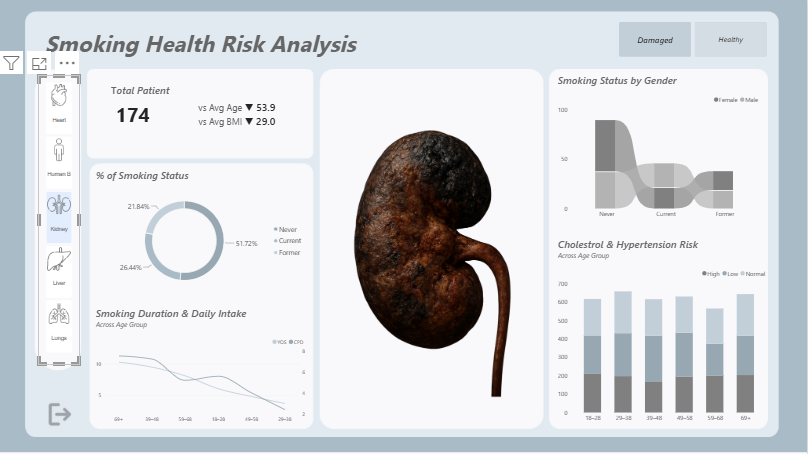

This screenshot's page, from the dashboard's own definition file:
{"tool":"powerbi","page":{"name":"Smoking Health Risk Analysis","canvas":[1920,1080],"ordinal":0},"visuals":[{"type":"cardVisual","fields":{"Data":["CountNonNull(health_dataset.Patient_ID)"]},"box":[228.6,178.6,497.6,185.7],"z":0},{"type":"textbox","box":[264.3,178.6,283.3,114.3],"z":1000},{"type":"advancedSlicerVisual","fields":{"Values":["condition.Organ_Condition"]},"box":[1473.8,52.4,352.4,83.3],"z":2000},{"type":"ChicletSlicer1448559807354","fields":{"Category":["Organs.Organ"],"Image":["Organs.Icon_URL"]},"box":[90.5,178.6,100,690.5],"z":3000},{"type":"image","box":[764.3,178.6,528.6,831],"z":4000},{"type":"donutChart","title":"% of Smoking Status","fields":{"Category":["health_dataset.Smoking_Status"],"Y":["CountNonNull(health_dataset.Smoking_Status)"]},"box":[211.9,385.7,531,328.6],"z":5000},{"type":"lineChart","title":"Smoking Duration & Daily Intake","fields":{"Category":["health_dataset.Age Group"],"Y":["Avg(health_dataset.Years_of_Smoking)"],"Y2":["Avg(health_dataset.Cigarettes_Per_Day)"]},"box":[211.9,714.3,531,311.9],"z":6000},{"type":"ribbonChart","title":"Smoking Status by Gender","fields":{"Category":["health_dataset.Smoking_Status"],"Series":["health_dataset.Gender"],"Y":["CountNonNull(health_dataset.Patient_ID)"]},"box":[1311.9,159.5,514.3,381],"z":6001},{"type":"columnChart","title":"Cholestrol & Hypertension Risk","fields":{"Category":["health_dataset.Age Group"],"Series":["health_dataset.BP_Risk"],"Y":["Avg(health_dataset.Cholesterol_Level)"]},"box":[1311.9,550,531,476.2],"z":6002},{"type":"textbox","box":[107.1,66.7,819,92.9],"z":6003}]}

Visuals, with their boxes on the page's 1920x1080 design canvas (x1, y1, x2, y2). These are canvas units, not pixel positions in the 808x454 screenshot, which may show the page scaled, cropped or inside an application window:
cardVisual - CountNonNull(health_dataset.Patient_ID): (left=229, top=179, right=726, bottom=364)
textbox: (left=264, top=179, right=548, bottom=293)
advancedSlicerVisual - condition.Organ_Condition: (left=1474, top=52, right=1826, bottom=136)
ChicletSlicer1448559807354 - Organs.Organ x Organs.Icon_URL: (left=90, top=179, right=190, bottom=869)
image: (left=764, top=179, right=1293, bottom=1010)
"% of Smoking Status" donutChart: (left=212, top=386, right=743, bottom=714)
"Smoking Duration & Daily Intake" lineChart: (left=212, top=714, right=743, bottom=1026)
"Smoking Status by Gender" ribbonChart: (left=1312, top=160, right=1826, bottom=540)
"Cholestrol & Hypertension Risk" columnChart: (left=1312, top=550, right=1843, bottom=1026)
textbox: (left=107, top=67, right=926, bottom=160)
